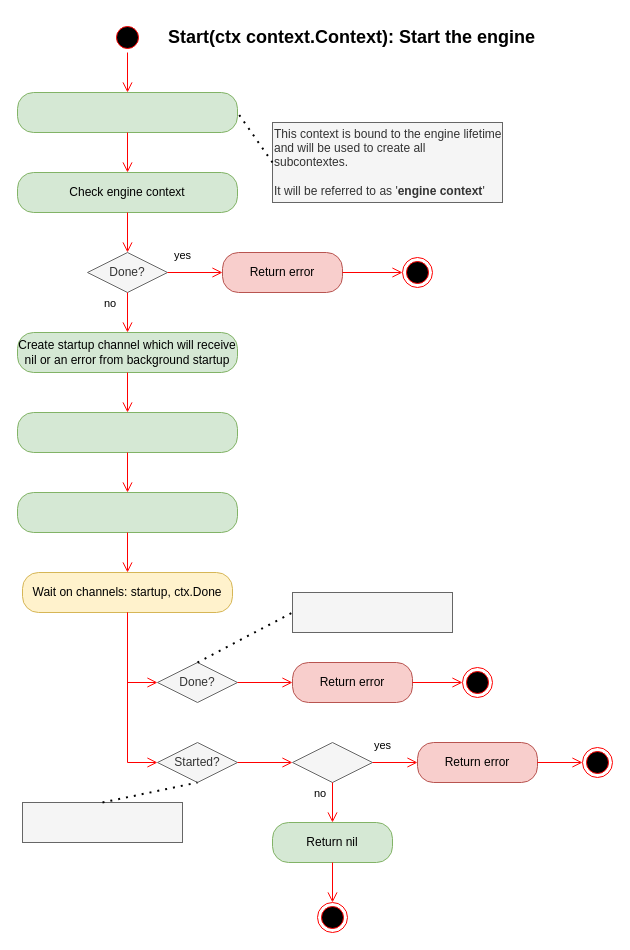
This 630x950 diagram has some shape labels left out. The box of each missing label's shape, as (x1, y1, x2, y2) in pixels:
Create a cancellable engine context and an exit function from provided context: (16, 92, 238, 132)
Error?: (292, 742, 372, 782)
In case context is canceled or a timeout occurs: (292, 592, 452, 632)
Optional: create a context with a timeout: (16, 492, 238, 532)
Start a goroutine which calls startEngine (background): (16, 412, 238, 452)
Startup channel receives either nil or an error: (22, 802, 182, 842)
